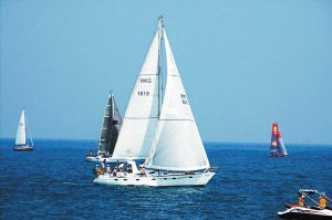fanchuan: (91, 15, 219, 188), (82, 91, 125, 163), (10, 106, 42, 151), (264, 121, 296, 159)
otherboat: (272, 182, 332, 220)
